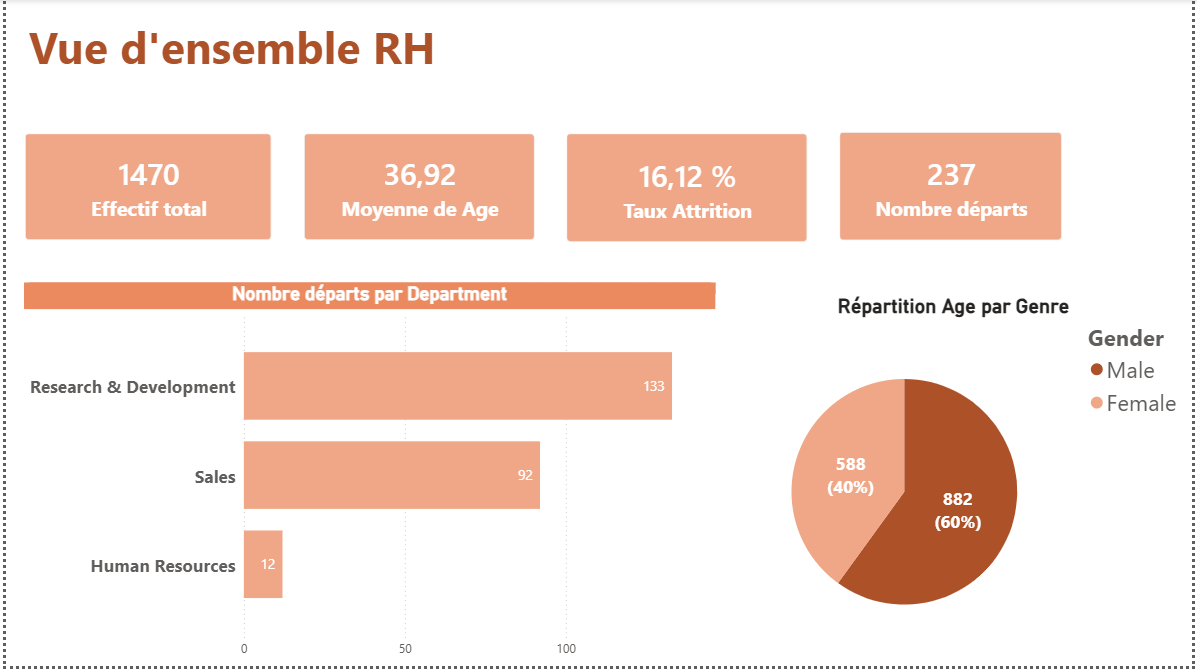

The dashboard page shown, as its layout file describes it:
{"tool":"powerbi","page":{"name":"Page 1","canvas":[1280,720],"ordinal":0},"visuals":[{"type":"cardVisual","fields":{"Data":["WA_Fn-UseC_-HR-Employee-Attriti.Effectif total"]},"box":[3.8,128.5,300.5,149.3],"z":0},{"type":"cardVisual","fields":{"Data":["Avg(WA_Fn-UseC_-HR-Employee-Attriti.Age)"]},"box":[304.3,128.5,283.5,149.3],"z":1000},{"type":"cardVisual","fields":{"Data":["WA_Fn-UseC_-HR-Employee-Attriti.Taux Attrition"]},"box":[587.7,128.5,294.8,151.2],"z":2000},{"type":"cardVisual","fields":{"Data":["WA_Fn-UseC_-HR-Employee-Attriti.Nombre départs"]},"box":[882.5,126.6,274,151.2],"z":3000},{"type":"textbox","box":[18.9,13.2,461.1,79.4],"z":4000},{"type":"clusteredBarChart","fields":{"Y":["WA_Fn-UseC_-HR-Employee-Attriti.Nombre départs"],"Category":["WA_Fn-UseC_-HR-Employee-Attriti.Department"]},"box":[18.9,306.1,746.5,413.9],"z":5000},{"type":"pieChart","title":"Répartition Age par Genre","fields":{"Category":["WA_Fn-UseC_-HR-Employee-Attriti.Gender"],"Y":["CountNonNull(WA_Fn-UseC_-HR-Employee-Attriti.Age)"]},"box":[765.4,319.4,514,400.6],"z":6000}]}

Visuals, with their boxes in screenshot pixels (x1, y1, x2, y2), scaled from the page's 1280x720 canvas onto the 1197x669 screenshot:
cardVisual - WA_Fn-UseC_-HR-Employee-Attriti.Effectif total: crop(4, 119, 285, 258)
cardVisual - Avg(WA_Fn-UseC_-HR-Employee-Attriti.Age): crop(285, 119, 550, 258)
cardVisual - WA_Fn-UseC_-HR-Employee-Attriti.Taux Attrition: crop(550, 119, 825, 260)
cardVisual - WA_Fn-UseC_-HR-Employee-Attriti.Nombre départs: crop(825, 118, 1082, 258)
textbox: crop(18, 12, 449, 86)
clusteredBarChart - WA_Fn-UseC_-HR-Employee-Attriti.Nombre départs x WA_Fn-UseC_-HR-Employee-Attriti.Department: crop(18, 284, 716, 668)
"Répartition Age par Genre" pieChart: crop(716, 297, 1196, 668)
